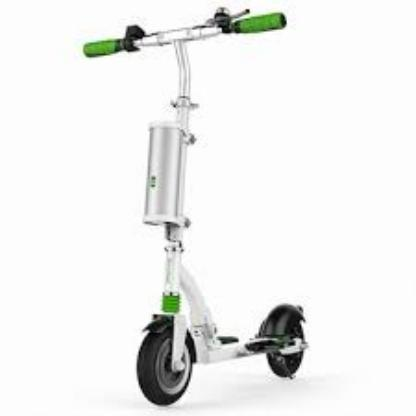bike: (107, 2, 311, 408), (134, 218, 309, 407)
